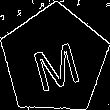M_N: (26, 30, 83, 91)
